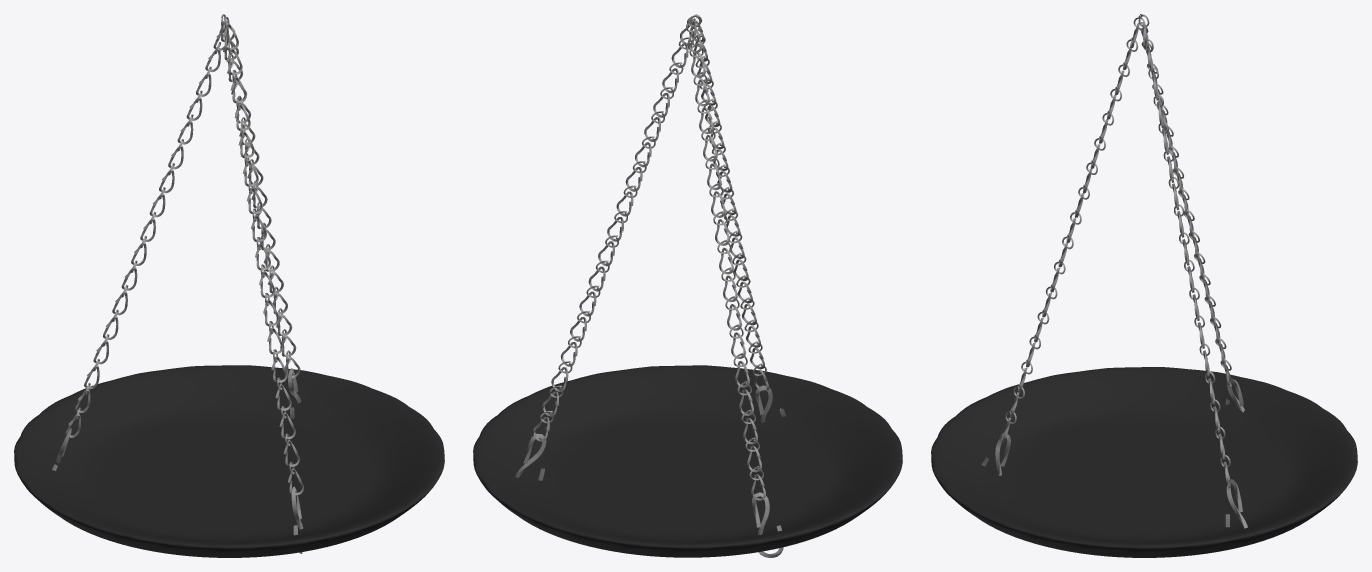
File: plate00.glb
3 renders of one model, left to right at view 1: azimuth 30°, elevation 25°; view 2: azimuth 150°, elevation 25°; view 3: azimuth 270°, elevation 25°, orthographic.
Visible parts, largest first — view 1: defaultMaterial.215; view 2: defaultMaterial.215, defaultMaterial.282; view 3: defaultMaterial.215.
Part boxes in pixels (x1,y1,x2,y2): defaultMaterial.215: [14, 365, 444, 557]; defaultMaterial.215: [473, 365, 902, 557]; defaultMaterial.282: [752, 492, 783, 557]; defaultMaterial.215: [931, 367, 1357, 557].
Size of the model in its own units: 0.6123 by 0.7524 by 0.6123.
4 materials, 2 textured.
